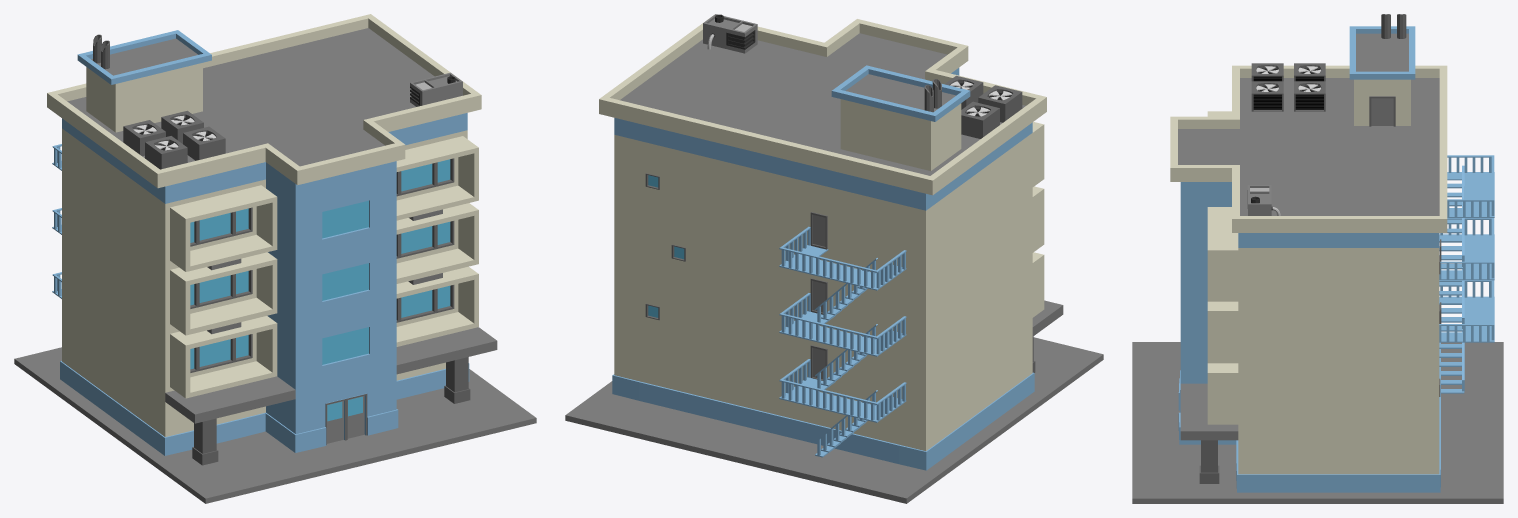
The model's file is BlueApartmentComplex.fbx.
The picture shows the model from 3 angles, left to right: view 1: azimuth 30°, elevation 25°; view 2: azimuth 150°, elevation 25°; view 3: azimuth 270°, elevation 25°; orthographic projection. The views are drawn at different scales.
Parts seen in each view (by area): view 1: HöghusBlåMerged; view 2: HöghusBlåMerged; view 3: HöghusBlåMerged.
Boxes of the visible parts, left/top/right/bottom form: HöghusBlåMerged: left=14, top=14, right=536, bottom=503; HöghusBlåMerged: left=565, top=14, right=1103, bottom=503; HöghusBlåMerged: left=1132, top=14, right=1503, bottom=503.
Bounding box in the file's own units: 700 × 725 × 700.
